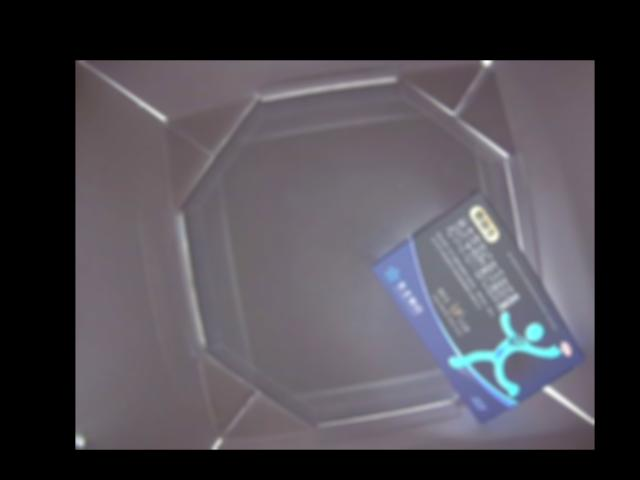Medicine: (369, 190, 585, 423)
